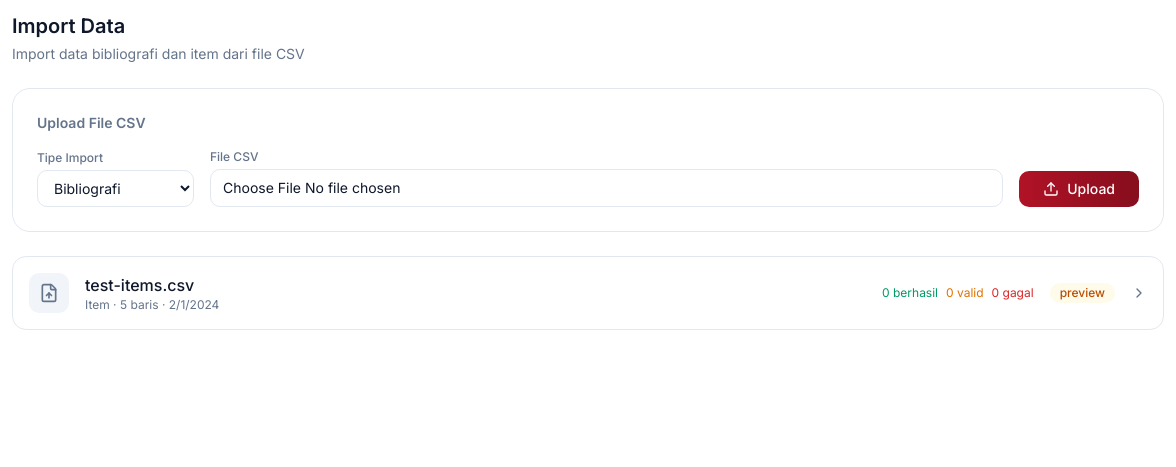
Scenario: ImportSection Batch Detail › should show approve button for preview status
Click the text "test-items.csv" at [140, 285], box [85,275,194,295]
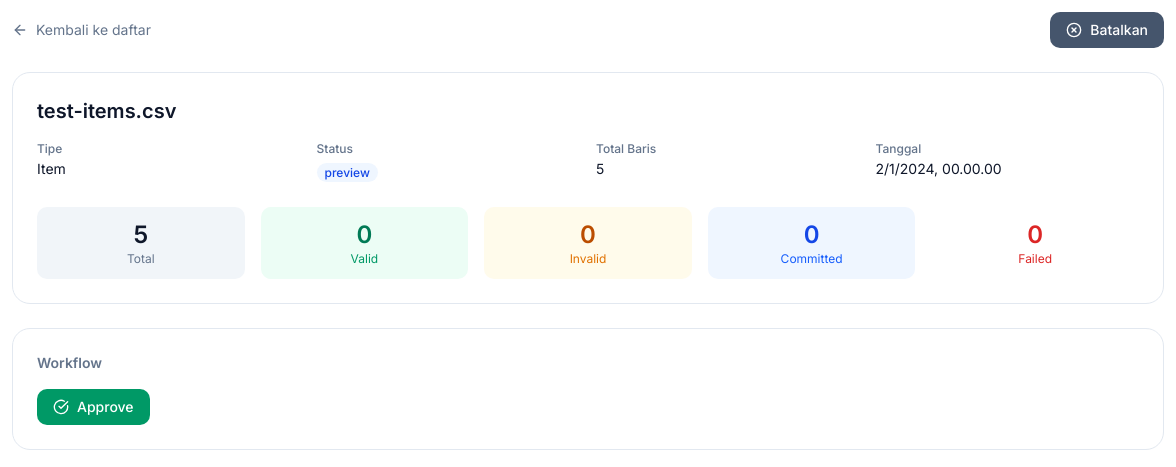
Expected: the button "Approve" is shown, [37,389,150,425]
